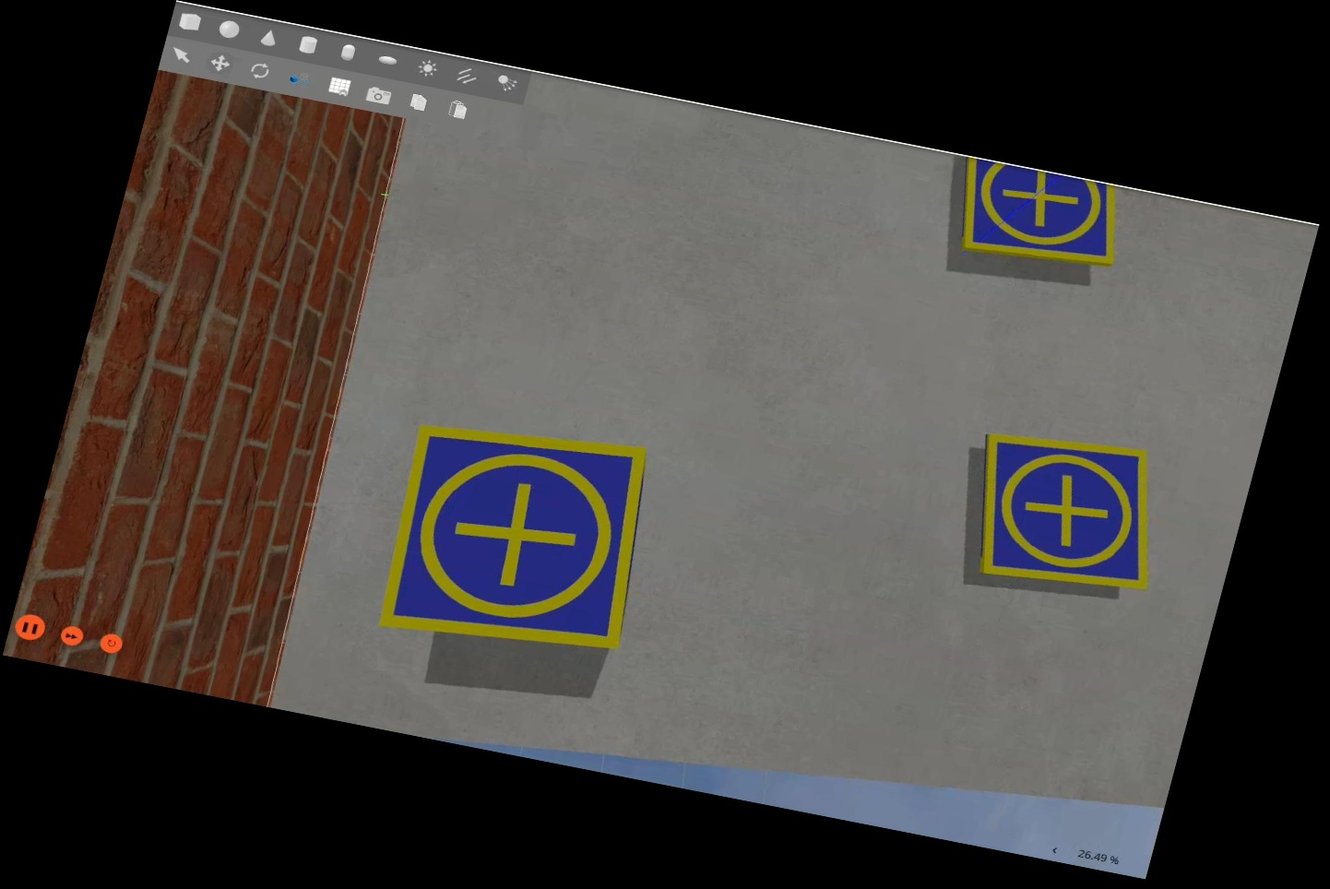small_base: (364, 402, 678, 678), (950, 418, 1187, 613), (939, 155, 1138, 284)
